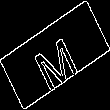M_NW: (28, 22, 82, 88)
